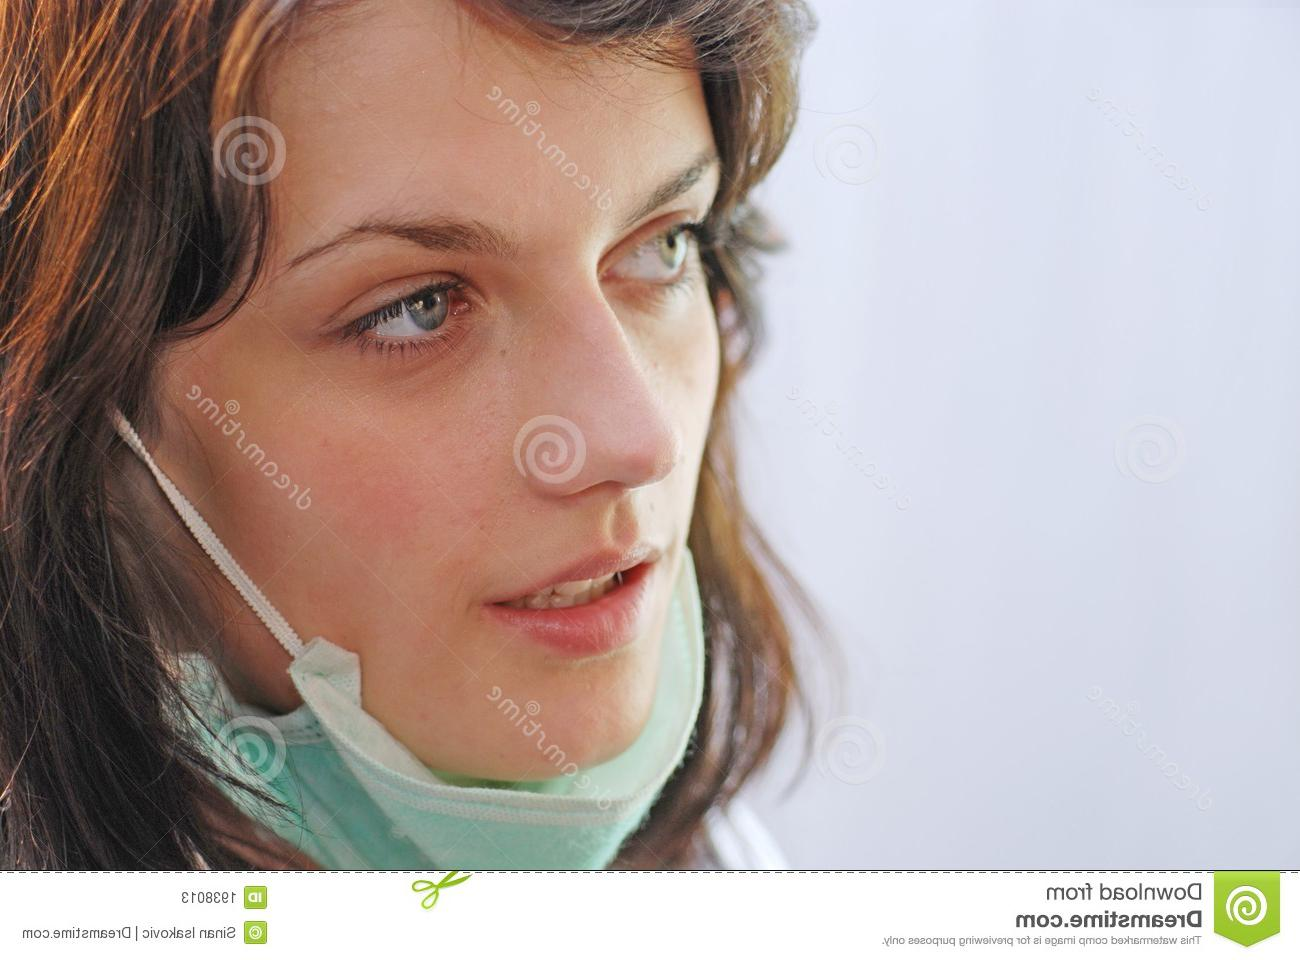mask_weared_incorrect: (226, 183, 714, 838)
